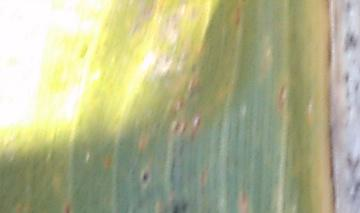tarspot: (78, 43, 88, 61), (141, 168, 149, 182), (180, 200, 188, 213), (193, 115, 201, 128), (172, 121, 179, 134), (63, 202, 71, 213), (172, 201, 179, 213)
